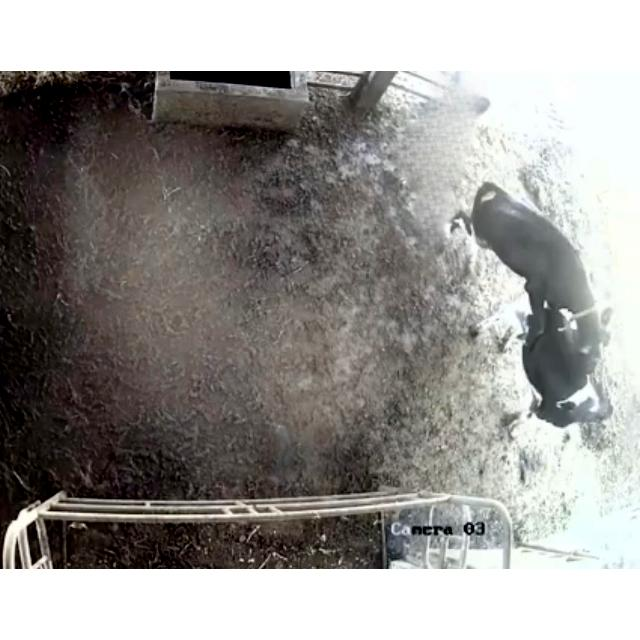ride: (449, 181, 612, 369)
